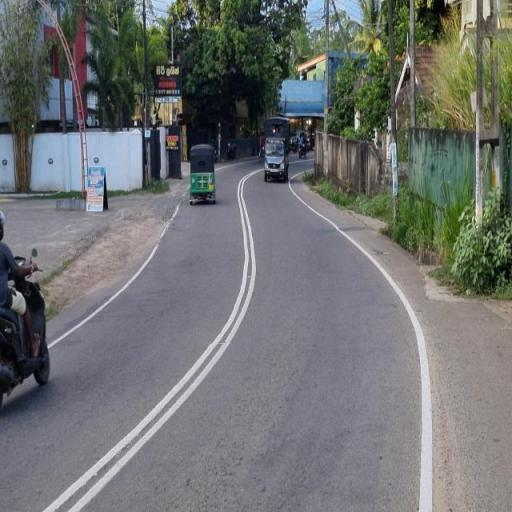double_white_line: (46, 166, 259, 512)
